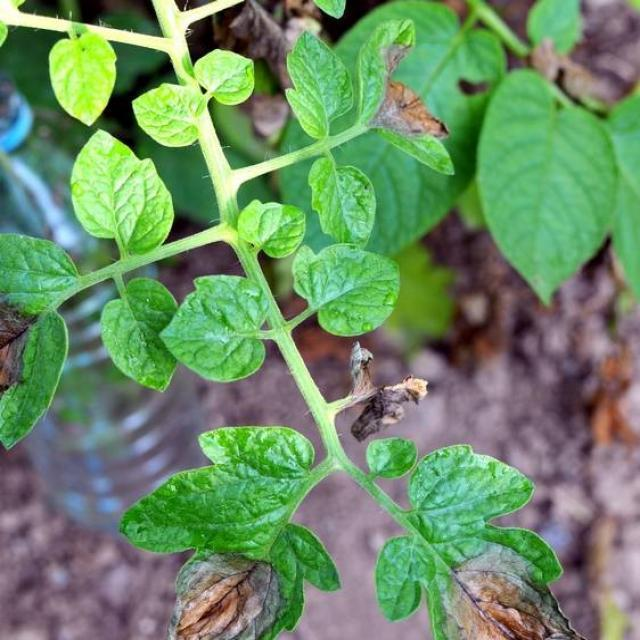Healthy Leaf: (63, 128, 177, 253), (166, 280, 278, 382), (288, 249, 418, 334), (281, 27, 353, 145), (101, 280, 180, 384), (47, 28, 119, 122), (242, 199, 326, 254)
